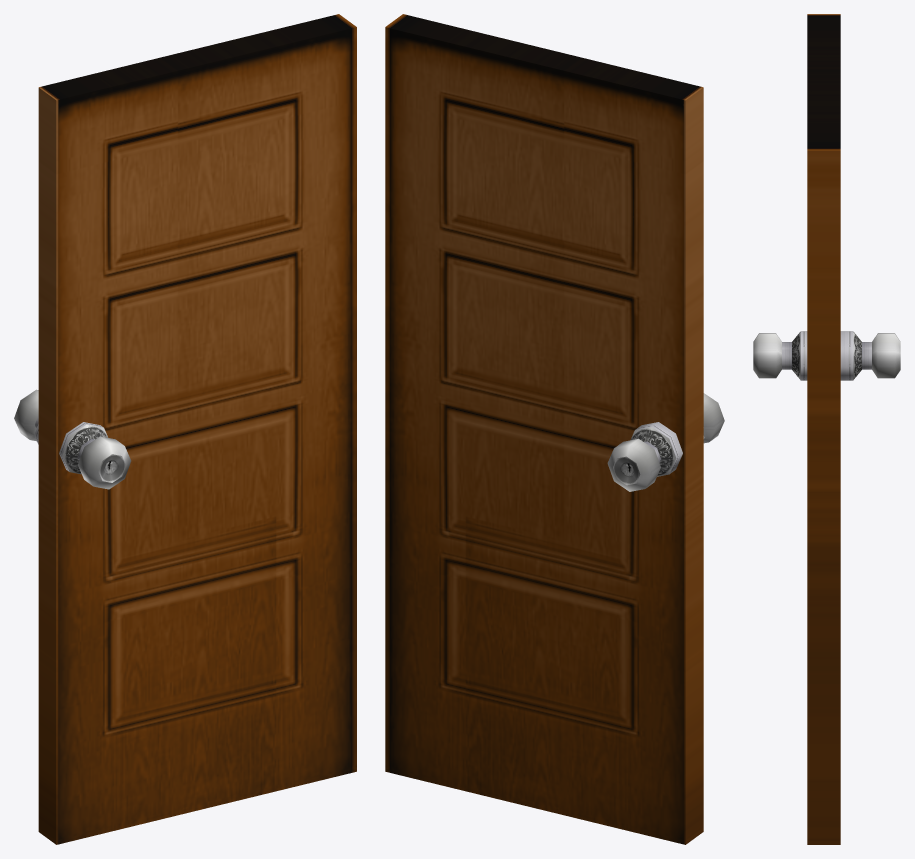
File: Door_A.fbx
3 views of the same model, side by side, from view 1: azimuth 30°, elevation 25°; view 2: azimuth 150°, elevation 25°; view 3: azimuth 270°, elevation 25° (orthographic). The views are drawn at different scales.
Parts seen in each view (by area): view 1: DoorA, Doorknob.001; view 2: DoorA, Doorknob.001; view 3: DoorA, Doorknob.001.
Boxes of the visible parts, x1,y1,x2,y2 form: DoorA: (38, 14, 356, 844); Doorknob.001: (14, 389, 131, 489); DoorA: (385, 14, 703, 844); Doorknob.001: (607, 393, 724, 491); DoorA: (807, 14, 840, 844); Doorknob.001: (753, 331, 900, 380).
Bounding box in the file's own units: 76.69 × 182 × 34.98.
